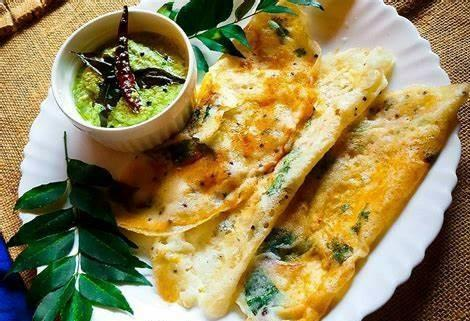CoconutChutney: (71, 30, 186, 127)
Dosa: (151, 48, 396, 321), (234, 82, 470, 321), (115, 0, 321, 236)
